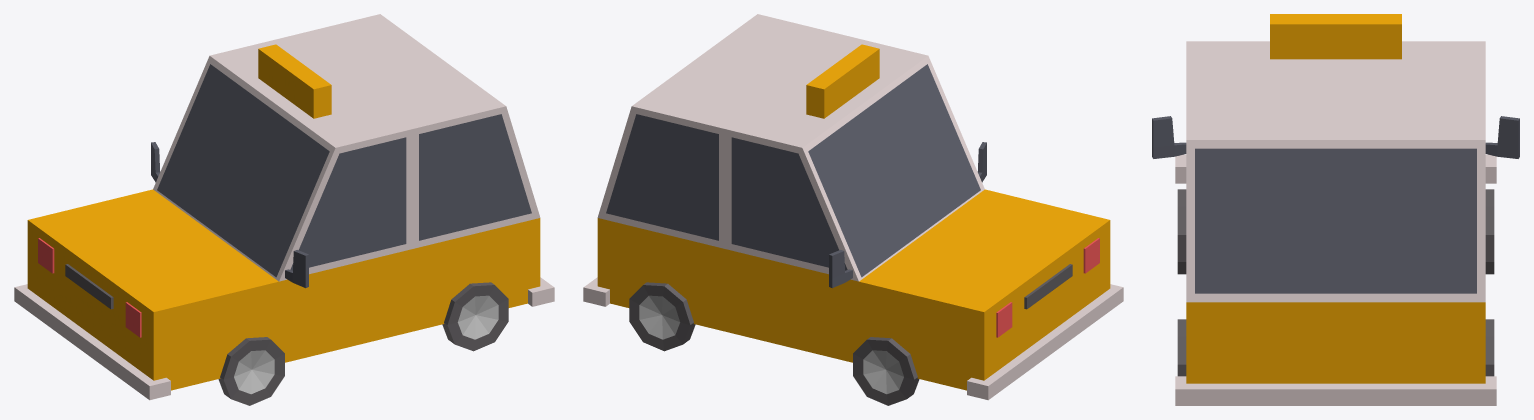
The model's file is BasicCar01.fbx.
3 views of the same model, side by side, from view 1: azimuth 30°, elevation 25°; view 2: azimuth 150°, elevation 25°; view 3: azimuth 270°, elevation 25° (orthographic). The views are drawn at different scales.
Parts seen in each view (by area): view 1: Tico_car; view 2: Tico_car; view 3: Tico_car.
Boxes of the visible parts, x1,y1,x2,y2 form: Tico_car: (14, 14, 554, 405); Tico_car: (583, 14, 1123, 405); Tico_car: (1152, 14, 1519, 405).
Size of the model in its own units: 25.64 by 16.99 by 15.92.
